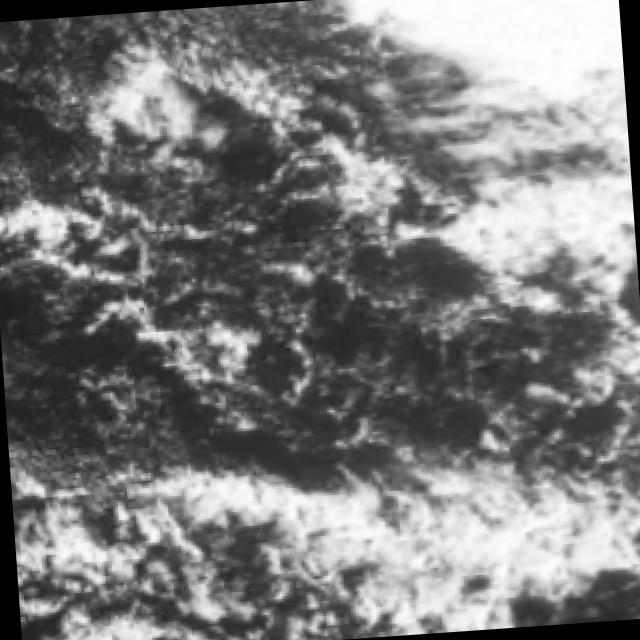CB: (419, 0, 626, 131)
